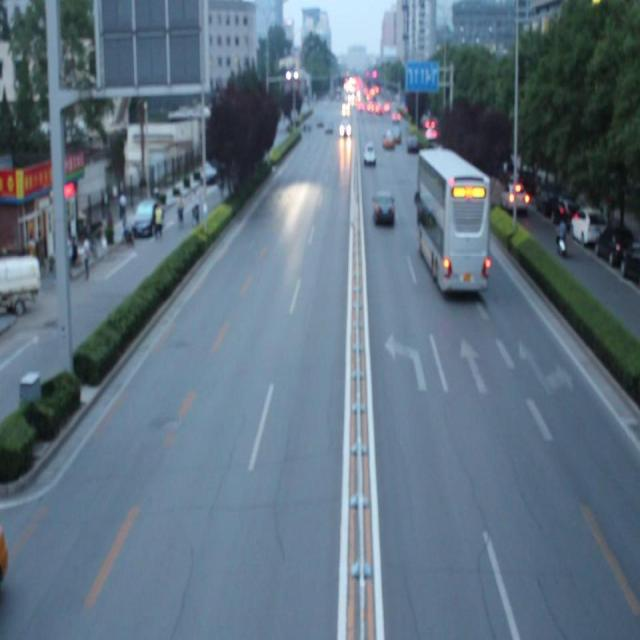car: (371, 185, 395, 229)
van: (418, 148, 489, 294)
